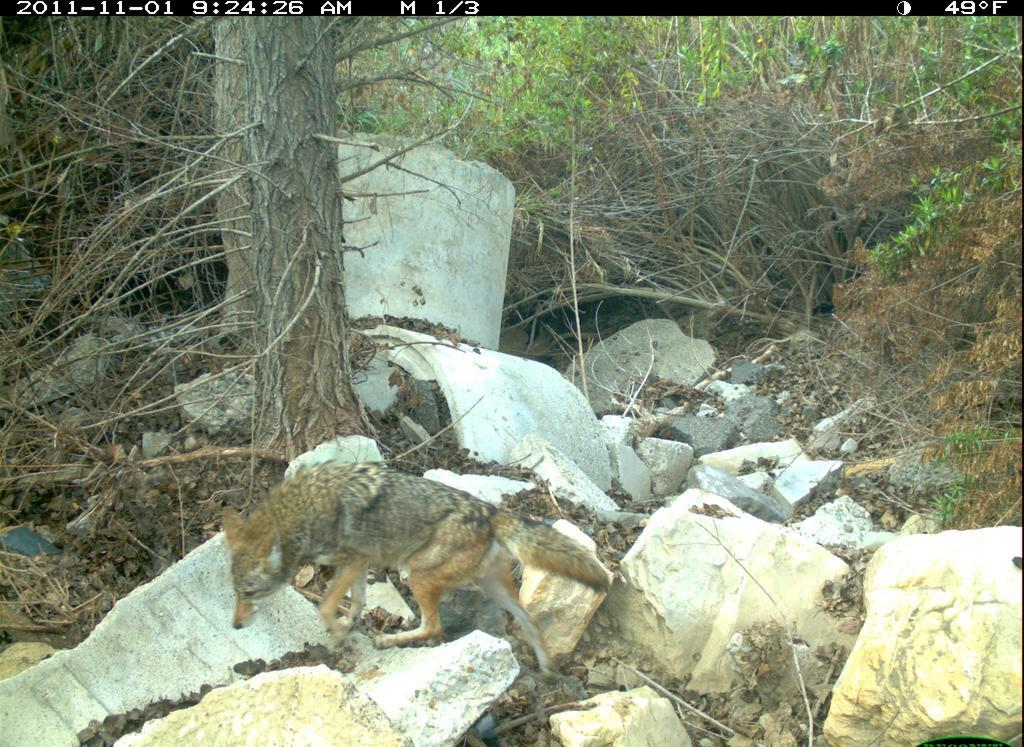coyote: (216, 451, 619, 688)
